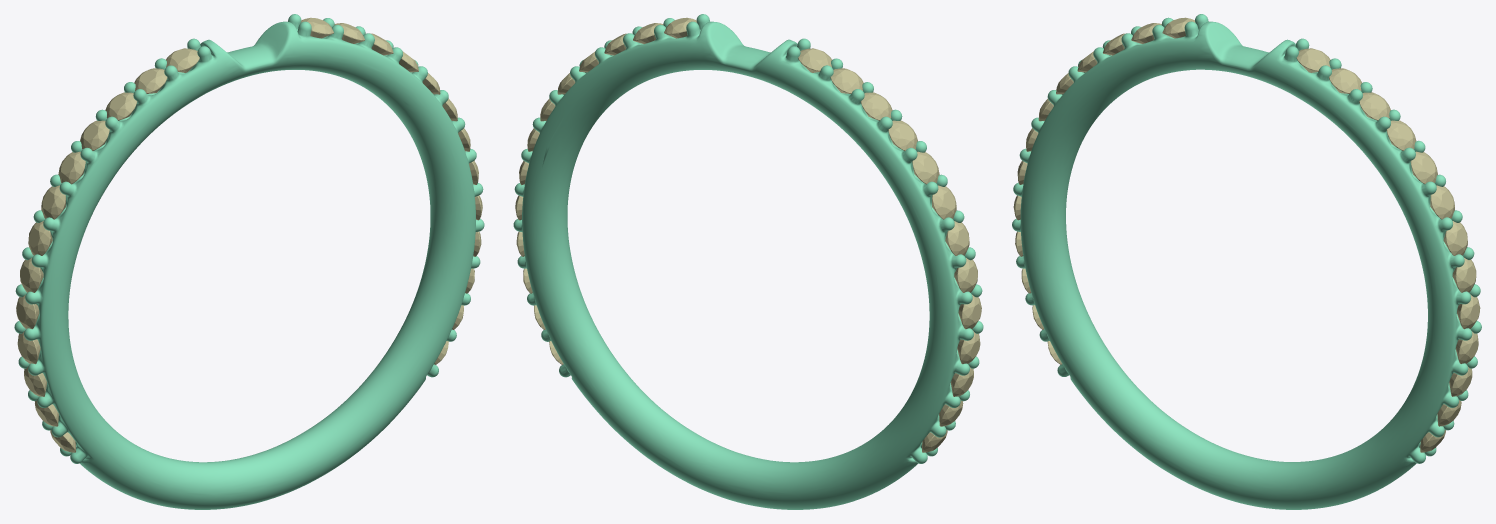
The picture shows the model from 3 angles, left to right: view 1: azimuth 30°, elevation 25°; view 2: azimuth 150°, elevation 25°; view 3: azimuth 330°, elevation 25°; orthographic projection.
Parts seen in each view (by area): view 1: Metal02, Diamond_Gem.008, Diamond_Gem.009, Diamond_Gem.007, Diamond_Gem.010, Diamond_Gem.011, Diamond_Gem.006, Diamond_Gem.012, Diamond_Gem.005, Diamond_Gem.004; view 2: Metal02, Diamond_Gem.008, Diamond_Gem.009, Diamond_Gem.010, Diamond_Gem.007, Diamond_Gem.011, Diamond_Gem.006, Diamond_Gem.012, Diamond_Gem.005, Diamond_Gem.004; view 3: Metal02, Diamond_Gem.016, Diamond_Gem.017, Diamond_Gem.015, Diamond_Gem.018, Diamond_Gem.019, Diamond_Gem.014, Diamond_Gem.020, Diamond_Gem.013, Diamond_Gem.021.
Boxes of the visible parts, x1,y1,x2,y2 form: Metal02: [14, 14, 484, 509]; Diamond_Gem.008: [58, 151, 85, 184]; Diamond_Gem.009: [80, 120, 109, 150]; Diamond_Gem.007: [41, 185, 65, 219]; Diamond_Gem.010: [105, 92, 137, 120]; Diamond_Gem.011: [134, 68, 167, 93]; Diamond_Gem.006: [28, 221, 52, 255]; Diamond_Gem.012: [166, 48, 199, 72]; Diamond_Gem.005: [20, 258, 43, 292]; Diamond_Gem.004: [16, 294, 39, 329]; Metal02: [513, 14, 983, 509]; Diamond_Gem.008: [912, 151, 939, 184]; Diamond_Gem.009: [888, 120, 917, 150]; Diamond_Gem.010: [860, 92, 892, 120]; Diamond_Gem.007: [932, 185, 956, 219]; Diamond_Gem.011: [830, 68, 863, 93]; Diamond_Gem.006: [945, 221, 969, 255]; Diamond_Gem.012: [798, 48, 831, 72]; Diamond_Gem.005: [954, 258, 977, 292]; Diamond_Gem.004: [958, 294, 981, 329]; Metal02: [1012, 14, 1481, 509]; Diamond_Gem.016: [1386, 120, 1416, 150]; Diamond_Gem.017: [1410, 151, 1437, 184]; Diamond_Gem.015: [1359, 92, 1390, 120]; Diamond_Gem.018: [1430, 185, 1454, 219]; Diamond_Gem.019: [1443, 221, 1467, 255]; Diamond_Gem.014: [1329, 68, 1361, 93]; Diamond_Gem.020: [1452, 257, 1476, 292]; Diamond_Gem.013: [1296, 48, 1330, 72]; Diamond_Gem.021: [1457, 294, 1480, 329].
Size of the model in its own units: 21.64 by 21.26 by 1.89.
